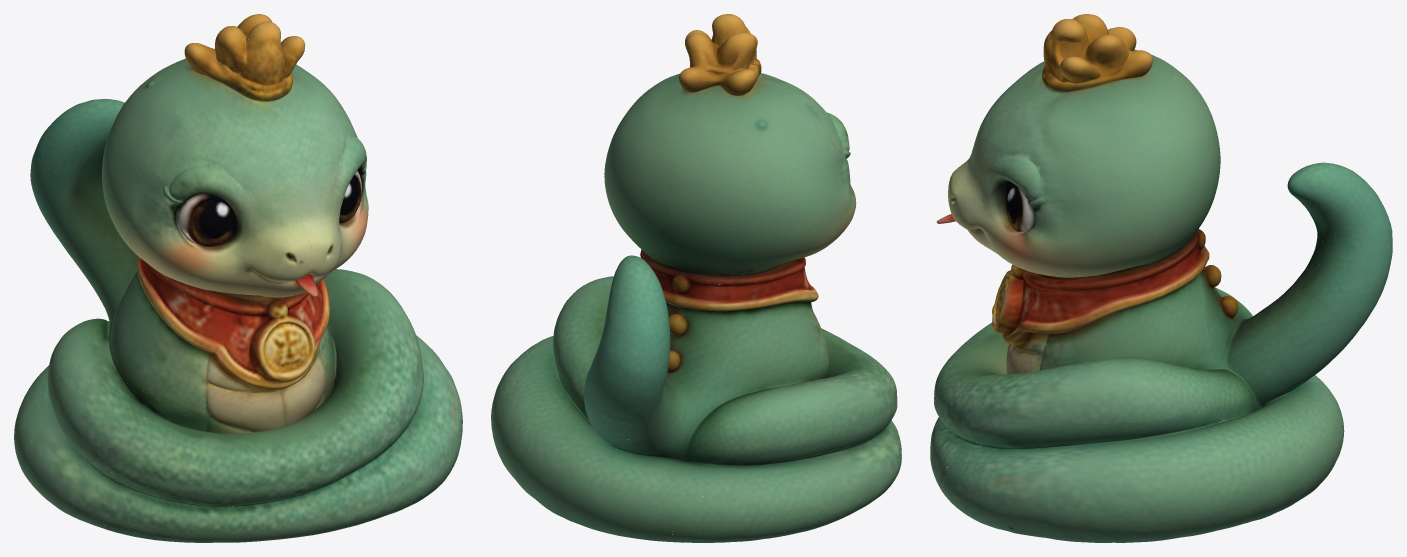
File: hi3d-zodiac-snake-web.glb
3 views of the same model, side by side, from view 1: azimuth 30°, elevation 25°; view 2: azimuth 150°, elevation 25°; view 3: azimuth 270°, elevation 25° (orthographic). The views are drawn at different scales.
Parts seen in each view (by area): view 1: zodiac_snake_mesh_01; view 2: zodiac_snake_mesh_01; view 3: zodiac_snake_mesh_01.
Part boxes in pixels (bbox=[...]): zodiac_snake_mesh_01: bbox=[14, 14, 462, 542]; zodiac_snake_mesh_01: bbox=[491, 14, 901, 542]; zodiac_snake_mesh_01: bbox=[930, 14, 1392, 542].
Size of the model in its own units: 0.8796 by 0.9981 by 0.9415.
1 material, 1 textured.
